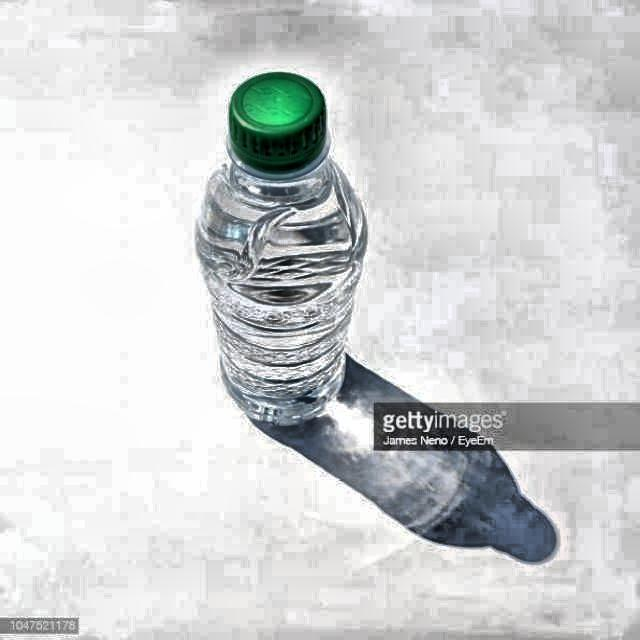plastic bottle: (196, 72, 367, 426)
